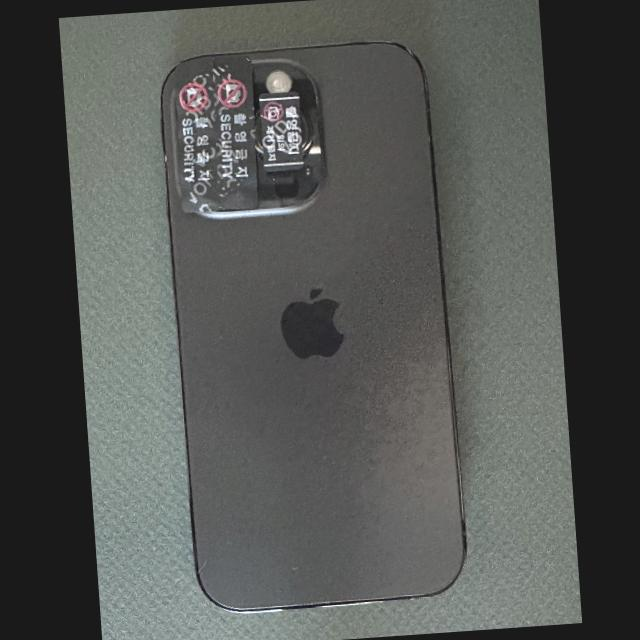lens: (301, 108, 313, 150)
phone: (162, 43, 465, 611)
sticker: (174, 59, 220, 213), (212, 55, 258, 209), (258, 91, 304, 172)
